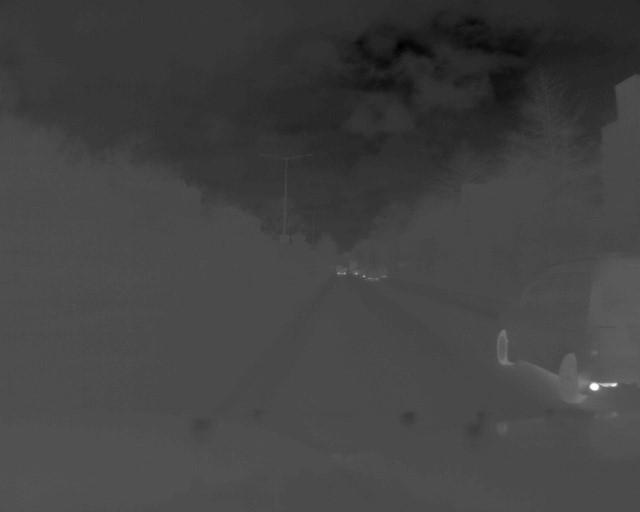car: (488, 246, 640, 410), (334, 264, 348, 277)
